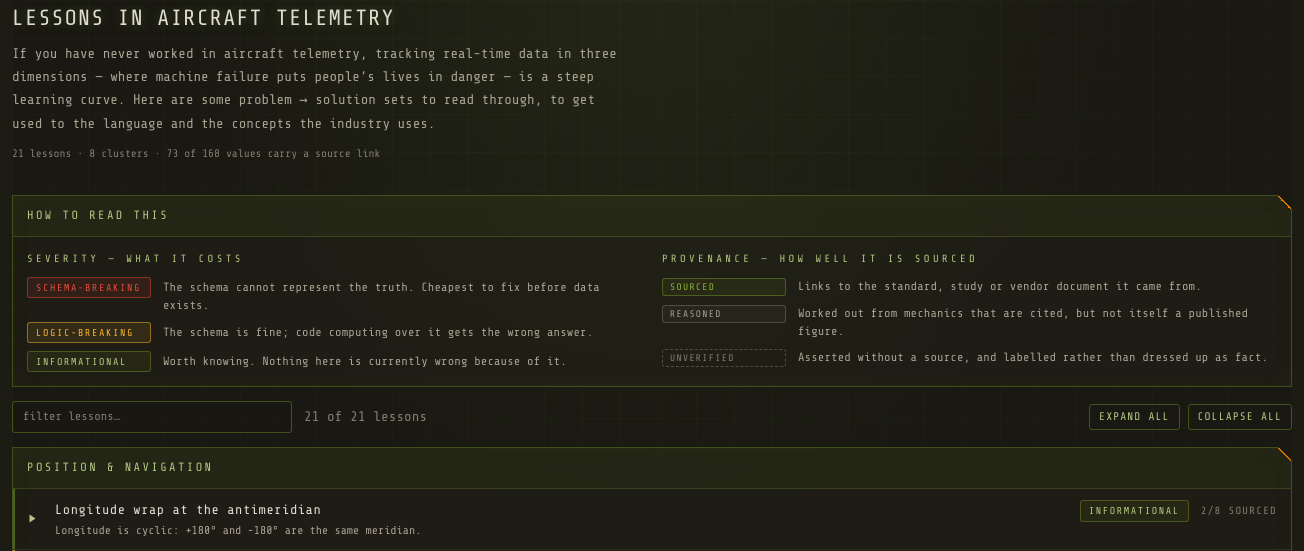
Test: Research page › says so when a filter matches nothing rather than showing an empty page
The image size is (1304, 551).
Step 1. Type "zzzznotathing" into the search field labelled "filter lessons" → (152, 417), box 12,401 -> 292,433
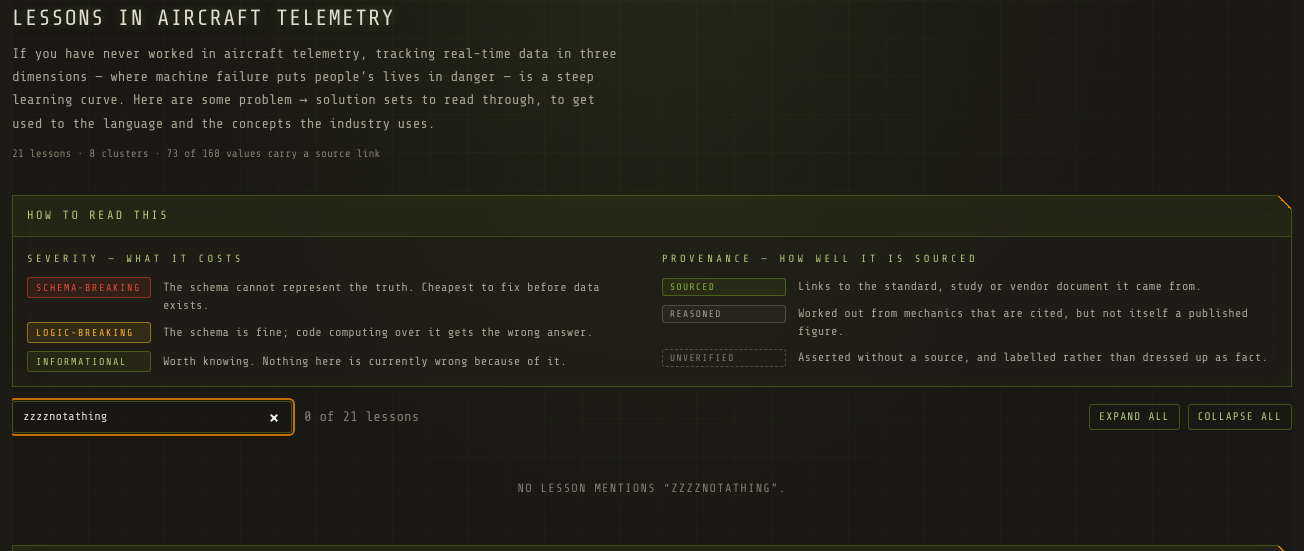
Expected: the text "No lesson mentions “zzzznotathing”." is shown, 518,481 -> 786,495
